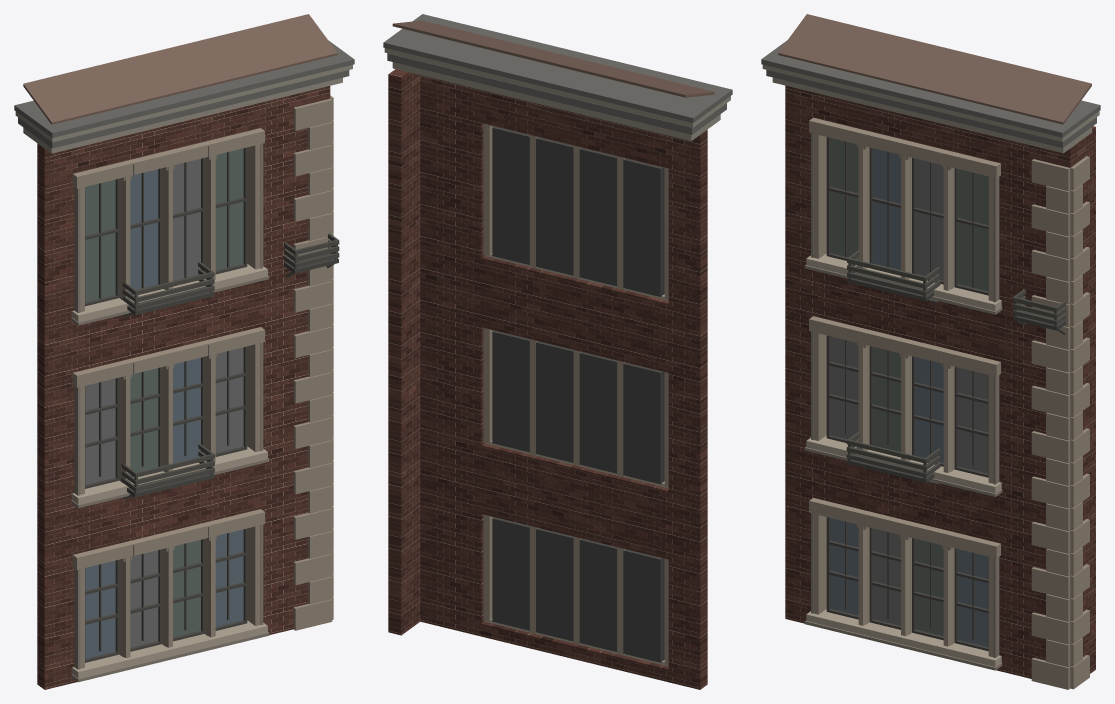
The model's file is huangpu-cathay-apartments-east-window-bay-web.glb.
The picture shows the model from 3 angles, left to right: view 1: azimuth 30°, elevation 25°; view 2: azimuth 150°, elevation 25°; view 3: azimuth 330°, elevation 25°; orthographic projection. The views are drawn at different scales.
Visible parts, largest first — view 1: 国泰公寓南楼东端临街窗组与砖檐; view 2: 国泰公寓南楼东端临街窗组与砖檐; view 3: 国泰公寓南楼东端临街窗组与砖檐.
Part boxes in pixels (<box>): 国泰公寓南楼东端临街窗组与砖檐: <box>14,14,354,689</box>; 国泰公寓南楼东端临街窗组与砖檐: <box>383,14,732,689</box>; 国泰公寓南楼东端临街窗组与砖檐: <box>761,14,1100,689</box>.
Size of the model in its own units: 5.82 by 10.87 by 1.39.
Materials: 14 (1 with a texture image).
